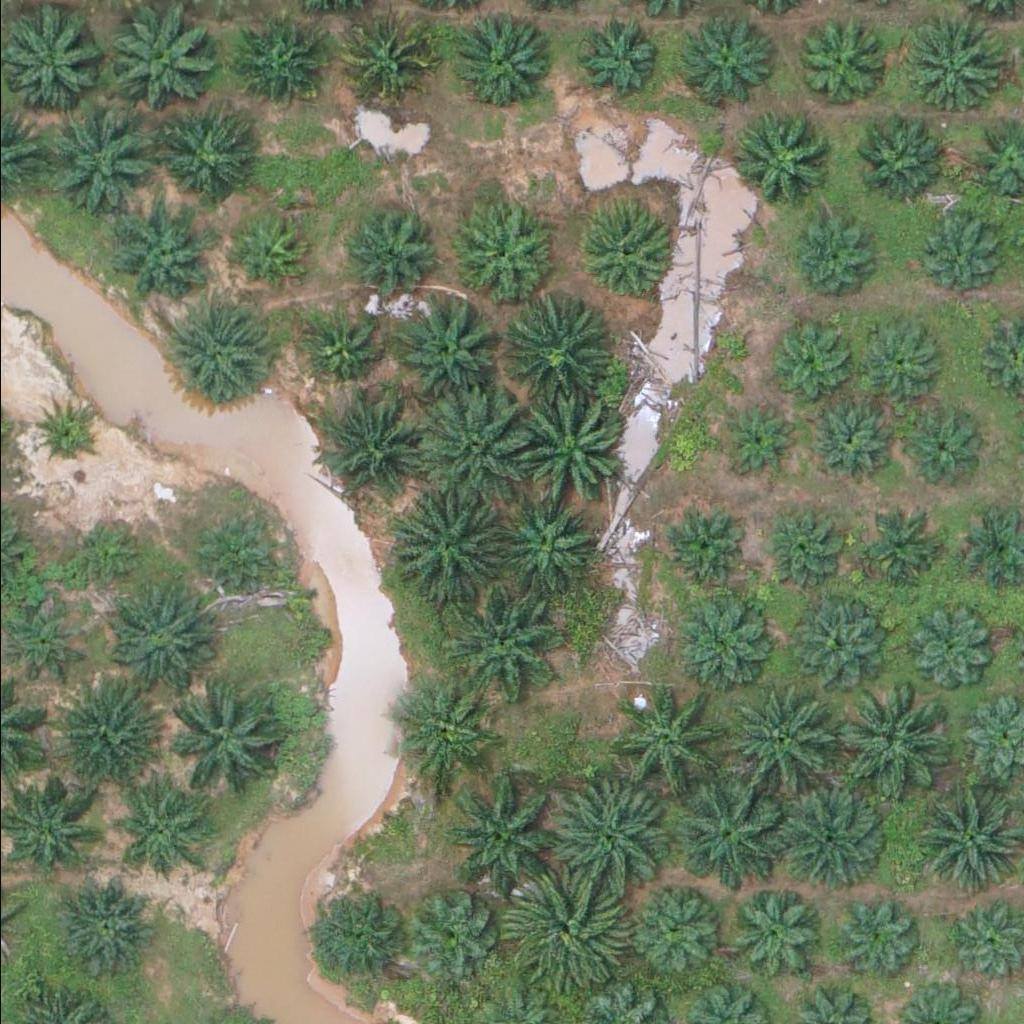Kelapa_Sawit: (389, 486, 503, 599), (774, 775, 888, 888), (172, 683, 285, 796), (99, 577, 212, 690), (48, 103, 161, 216), (104, 4, 217, 117), (511, 874, 624, 987), (677, 779, 790, 892), (494, 293, 607, 406), (549, 786, 663, 898), (448, 775, 561, 887), (44, 673, 157, 785), (448, 586, 561, 698), (415, 394, 528, 506), (905, 780, 1018, 892), (611, 687, 724, 799), (720, 687, 833, 799), (832, 683, 945, 795), (511, 393, 624, 505), (397, 294, 498, 394), (455, 14, 556, 114), (777, 592, 878, 692), (496, 493, 597, 593), (841, 108, 942, 208), (725, 109, 826, 209), (897, 18, 998, 118), (309, 885, 409, 985), (56, 876, 156, 976), (388, 682, 488, 782), (323, 392, 423, 492), (163, 302, 263, 402), (455, 205, 555, 305), (110, 208, 210, 308), (625, 885, 725, 985), (721, 889, 821, 989), (672, 591, 772, 691), (570, 203, 670, 303), (670, 11, 770, 111), (414, 889, 502, 977), (188, 505, 276, 593), (350, 202, 438, 290), (155, 113, 243, 201), (344, 13, 432, 101), (830, 895, 918, 983), (903, 604, 991, 692), (921, 204, 1009, 292), (655, 503, 743, 591), (788, 20, 876, 108), (575, 12, 663, 100), (107, 787, 195, 874), (236, 16, 324, 103), (786, 211, 874, 298), (769, 321, 857, 408), (854, 317, 942, 404), (893, 402, 981, 489), (809, 403, 897, 490), (765, 501, 853, 588), (862, 509, 950, 596), (724, 404, 800, 479), (231, 214, 307, 289), (306, 309, 381, 384), (70, 517, 145, 592), (31, 402, 94, 465)
